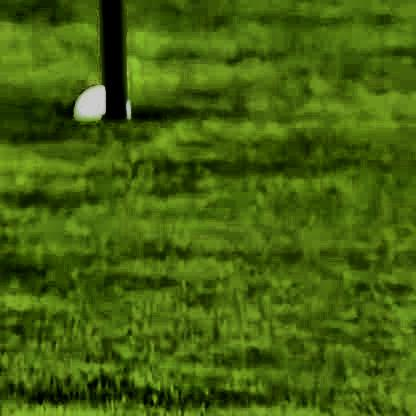golfball: (68, 92, 130, 129)
